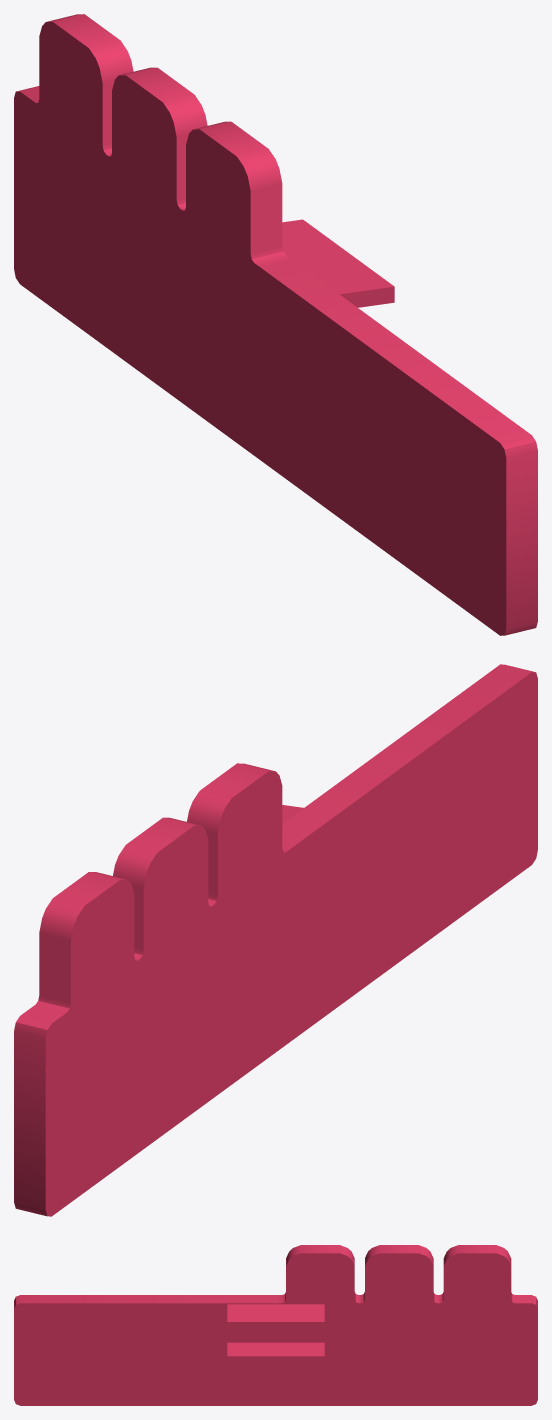
Rendered from SM_sub_genre_plate.fbx.
3 views of the same model, one above another, from view 1: azimuth 30°, elevation 25°; view 2: azimuth 150°, elevation 25°; view 3: azimuth 270°, elevation 25° (orthographic). The views are drawn at different scales.
Parts seen in each view (by area): view 1: Cube.001; view 2: Cube.001; view 3: Cube.001.
Part boxes in pixels (bbox=[...]): Cube.001: bbox=[14, 14, 537, 635]; Cube.001: bbox=[14, 664, 537, 1216]; Cube.001: bbox=[14, 1245, 537, 1405].
Bounding box in the file's own units: 0.0634 × 0.1958 × 0.6097.
